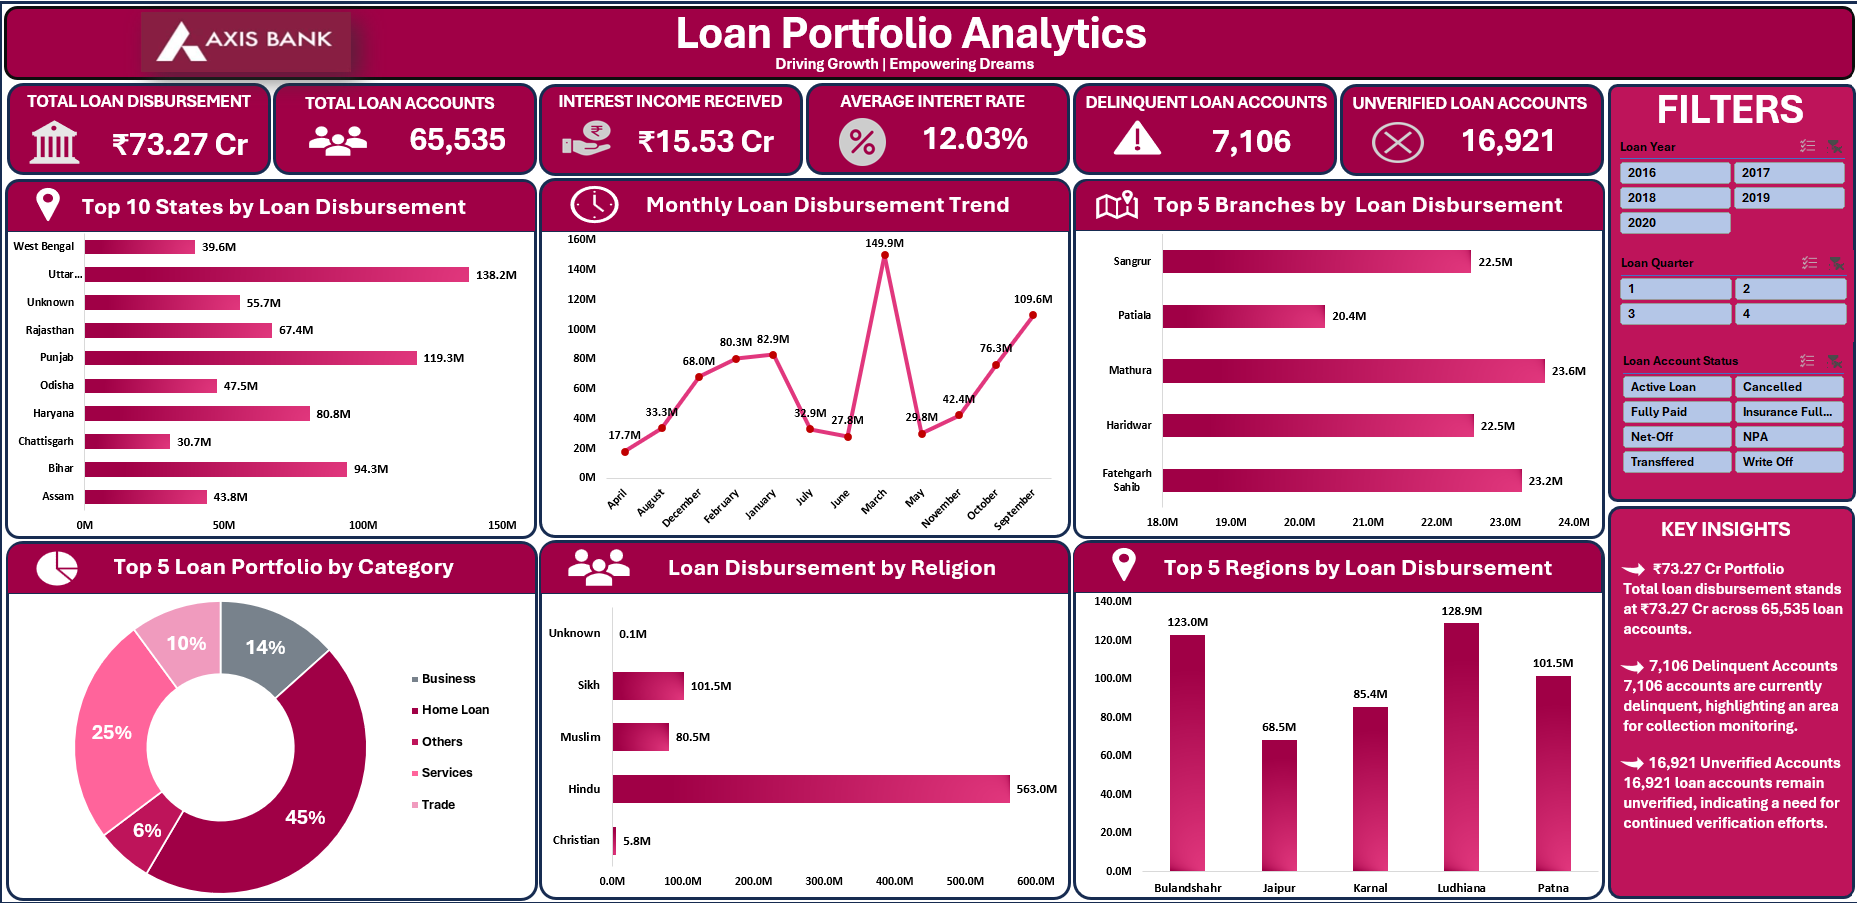

The dashboard page shown, as its layout file describes it:
{"tool":"powerbi","page":{"name":"Page 1","canvas":[1920,1080],"ordinal":0},"visuals":[{"type":"barChart","title":"Top 10 States by Loan Amount","fields":{"Y":["Fact_Loan1.Funded Amount Cr"],"Category":["Dim_Branch3.State Name"]},"box":[240.7,272.9,562.3,358.5],"z":0,"group":"g1"},{"type":"cardVisual","fields":{"Data":["Fact_Loan1.Funded Amount Cr"]},"box":[478.9,135.5,241,130],"z":1000},{"type":"donutChart","title":"Loan Distribution by Purpose","fields":{"Y":["Fact_Loan1.Funded Amount Cr"],"Category":["Fact_Loan1.Purpose Category"]},"box":[241.2,637.7,563.4,343.6],"z":1000,"group":"g1"},{"type":"cardVisual","fields":{"Data":["Fact_Loan1.delinquent loan account"]},"box":[1199.6,135.5,241,130],"z":2000},{"type":"columnChart","title":"Loan Amount by Religion","fields":{"Y":["Fact_Loan1.Funded Amount Cr"],"Category":["Dim_Client2.Religion"]},"box":[809.8,637.7,619.2,341.9],"z":2000,"group":"g1"},{"type":"cardVisual","fields":{"Data":["Count(Fact_Loan1.Account ID)"]},"box":[238.7,135.5,241,130],"z":3000},{"type":"lineChart","title":"Monthly Loan Funding","fields":{"Y":["Fact_Loan1.Funded Amount Cr"],"Category":["Dim_Date4.Disbursement Date.Variation.Date Hierarchy.Month"]},"box":[809.2,272.9,619.4,359.1],"z":3000,"group":"g1"},{"type":"cardVisual","fields":{"Data":["Fact_Loan1.total int rec Cr"]},"box":[719.2,135.5,241,130],"z":4000},{"type":"barChart","title":"Top 5 Branches by Loan Amount","fields":{"Category":["Dim_Branch3.Branch Name"],"Y":["Fact_Loan1.Funded Amount Cr"]},"box":[1436.2,273.8,483.6,358.2],"z":4000,"group":"g1"},{"type":"group","id":"g1","title":"Group 2","box":[240.7,272.9,1679.1,708.4],"z":5000},{"type":"clusteredBarChart","title":"Top 5 Regions by Loan Amount","fields":{"Category":["Dim_Branch3.Region Name"],"Y":["Fact_Loan1.Funded Amount Cr"]},"box":[1436,639.4,483.1,340.1],"z":5000,"group":"g1"},{"type":"cardVisual","fields":{"Data":["Fact_Loan1.verified loans"]},"box":[1680.1,135.5,241,130],"z":6000},{"type":"cardVisual","fields":{"Data":["Avg(Fact_Loan1.Int Rate)"]},"box":[959.4,135.5,241,130],"z":7000},{"type":"cardVisual","fields":{"Data":["Fact_Loan1.default loan rate"]},"box":[1439.8,135.5,241,130],"z":8000},{"type":"slicer","fields":{"Values":["Fact_Loan1.Verification Status"]},"box":[1.8,331.4,239.3,89.3],"z":9000},{"type":"slicer","fields":{"Values":["Fact_Loan1.Is Delinquent Loan"]},"box":[1.8,434.6,239.3,89.3],"z":10000},{"type":"slicer","fields":{"Values":["Fact_Loan1.Purpose Category"]},"box":[1.8,534.7,239.3,89.3],"z":11000},{"type":"slicer","fields":{"Values":["Dim_Date4.Year"]},"box":[2.9,136.7,239.3,89.3],"z":12000},{"type":"slicer","fields":{"Values":["Dim_Date4.Quarter"]},"box":[1.5,235.5,238.5,91.6],"z":13000}]}

Visuals, with their boxes on the page's 1920x1080 design canvas (x1, y1, x2, y2). These are canvas units, not pixel positions in the 1857x903 screenshot, which may show the page scaled, cropped or inside an application window:
"Top 10 States by Loan Amount" barChart: [x1=241, y1=273, x2=803, y2=631]
cardVisual - Fact_Loan1.Funded Amount Cr: [x1=479, y1=136, x2=720, y2=266]
"Loan Distribution by Purpose" donutChart: [x1=241, y1=638, x2=805, y2=981]
cardVisual - Fact_Loan1.delinquent loan account: [x1=1200, y1=136, x2=1441, y2=266]
"Loan Amount by Religion" columnChart: [x1=810, y1=638, x2=1429, y2=980]
cardVisual - Count(Fact_Loan1.Account ID): [x1=239, y1=136, x2=480, y2=266]
"Monthly Loan Funding" lineChart: [x1=809, y1=273, x2=1429, y2=632]
cardVisual - Fact_Loan1.total int rec Cr: [x1=719, y1=136, x2=960, y2=266]
"Top 5 Branches by Loan Amount" barChart: [x1=1436, y1=274, x2=1920, y2=632]
"Group 2" group: [x1=241, y1=273, x2=1920, y2=981]
"Top 5 Regions by Loan Amount" clusteredBarChart: [x1=1436, y1=639, x2=1919, y2=980]
cardVisual - Fact_Loan1.verified loans: [x1=1680, y1=136, x2=1921, y2=266]
cardVisual - Avg(Fact_Loan1.Int Rate): [x1=959, y1=136, x2=1200, y2=266]
cardVisual - Fact_Loan1.default loan rate: [x1=1440, y1=136, x2=1681, y2=266]
slicer - Fact_Loan1.Verification Status: [x1=2, y1=331, x2=241, y2=421]
slicer - Fact_Loan1.Is Delinquent Loan: [x1=2, y1=435, x2=241, y2=524]
slicer - Fact_Loan1.Purpose Category: [x1=2, y1=535, x2=241, y2=624]
slicer - Dim_Date4.Year: [x1=3, y1=137, x2=242, y2=226]
slicer - Dim_Date4.Quarter: [x1=2, y1=236, x2=240, y2=327]
